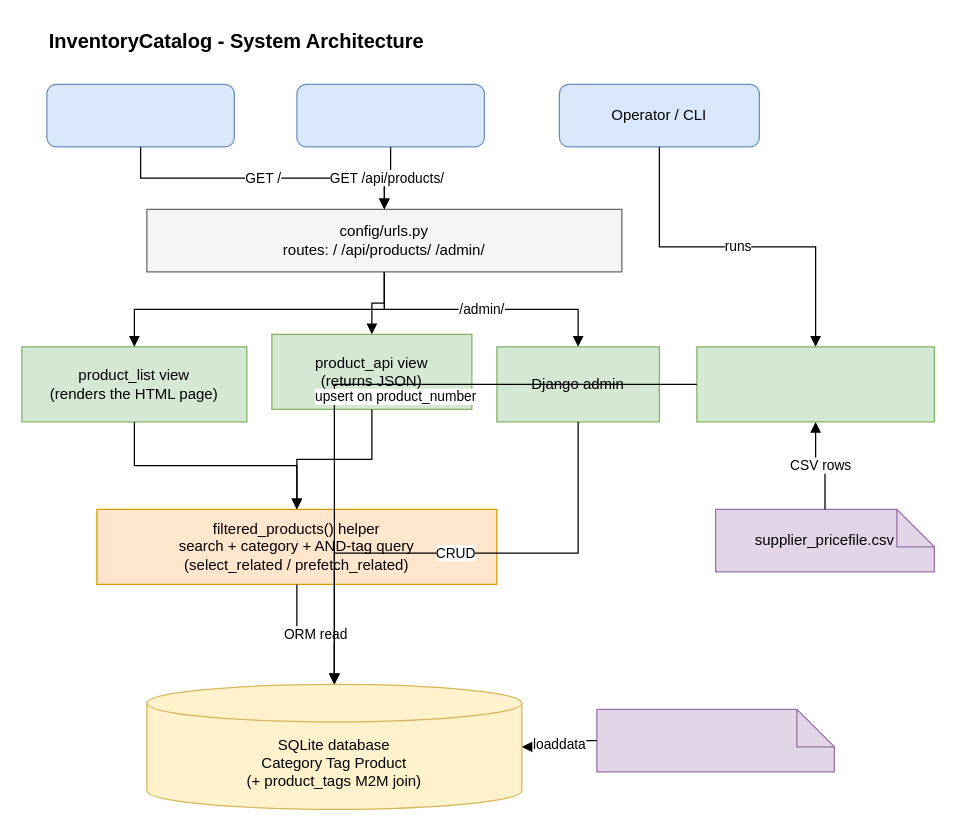
Image size: 956x831. Some labels were removed from this diagram. Each missing label, with the centre of its shape:
API client: the point at 390,115
import_catalog management command: the point at 815,384
sample_data.json fixture: the point at 715,740
Web browser: the point at 140,115
